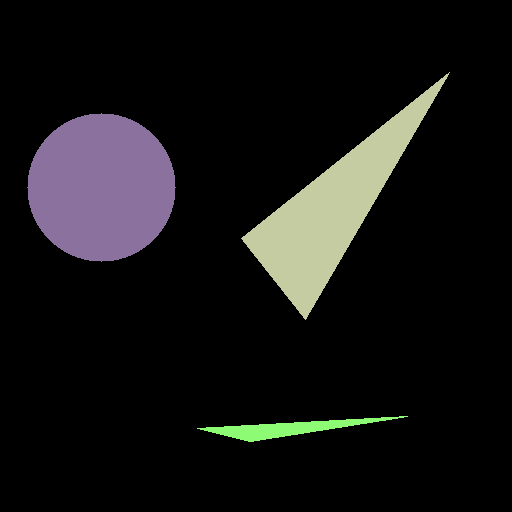circle: (27, 113, 175, 261)
triangle: (241, 72, 449, 319), (197, 416, 407, 441)
